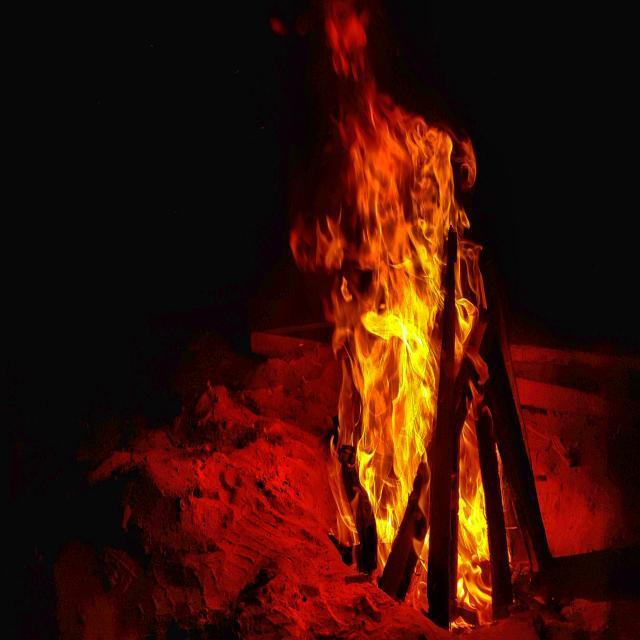Fire: (290, 0, 434, 434), (331, 434, 434, 552), (434, 129, 486, 352), (454, 427, 488, 610)
